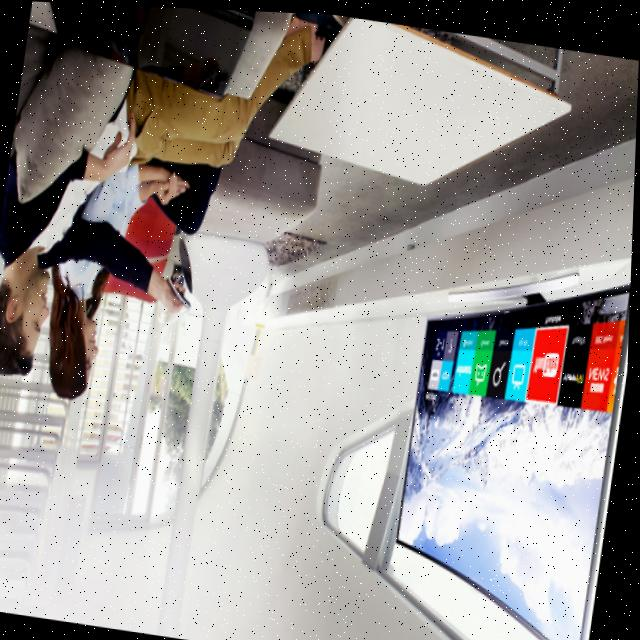tv-person: (0, 36, 639, 640), (12, 29, 639, 640)
